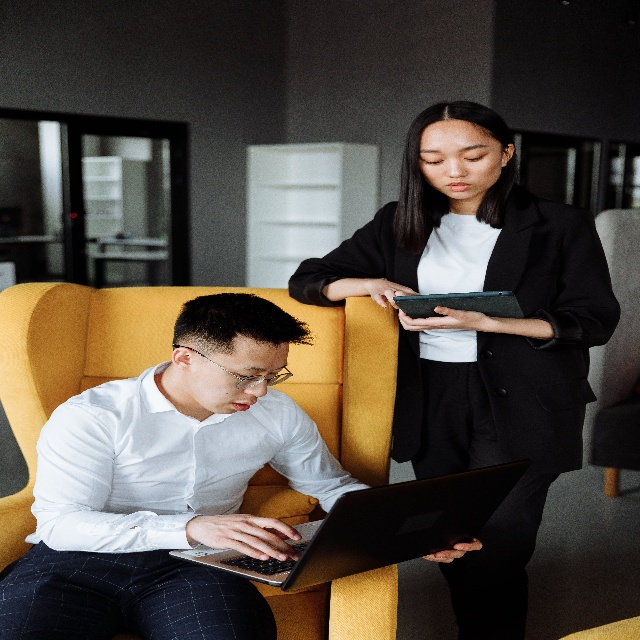Gafas: (172, 341, 293, 391)
Sin_guantes: (191, 512, 302, 565), (398, 302, 487, 336), (364, 276, 423, 310), (418, 533, 483, 563)
